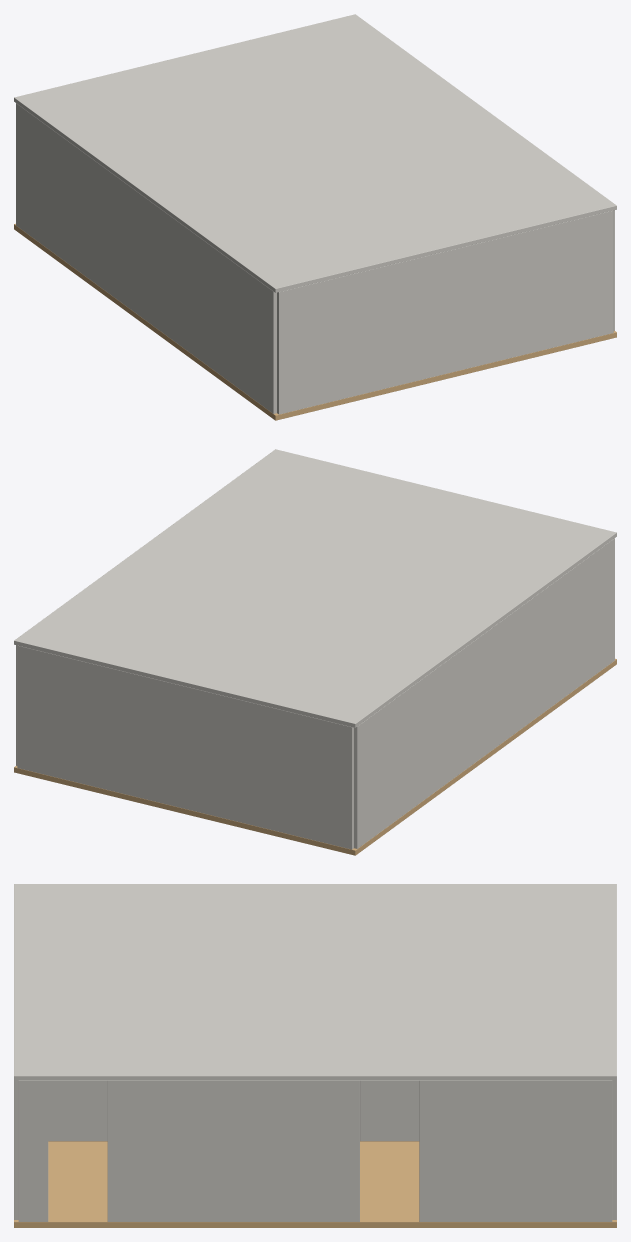
File: room-holyoke.883597bb.glb
The picture shows the model from 3 angles, top to bottom: view 1: azimuth 30°, elevation 25°; view 2: azimuth 150°, elevation 25°; view 3: azimuth 270°, elevation 25°; orthographic projection. The views are drawn at different scales.
Visible parts, largest first — view 1: holyoke__structure, holyoke__floor; view 2: holyoke__structure, holyoke__floor; view 3: holyoke__structure, holyoke__floor.
Boxes of the visible parts, box(x1,y1,x2,y2) form: holyoke__structure: box(14, 14, 616, 414); holyoke__floor: box(14, 223, 616, 420); holyoke__structure: box(14, 449, 616, 849); holyoke__floor: box(14, 658, 616, 855); holyoke__structure: box(14, 884, 616, 1221); holyoke__floor: box(14, 1141, 616, 1227).
Bounding box in the file's own units: 12.25 × 4.52 × 16.25.
